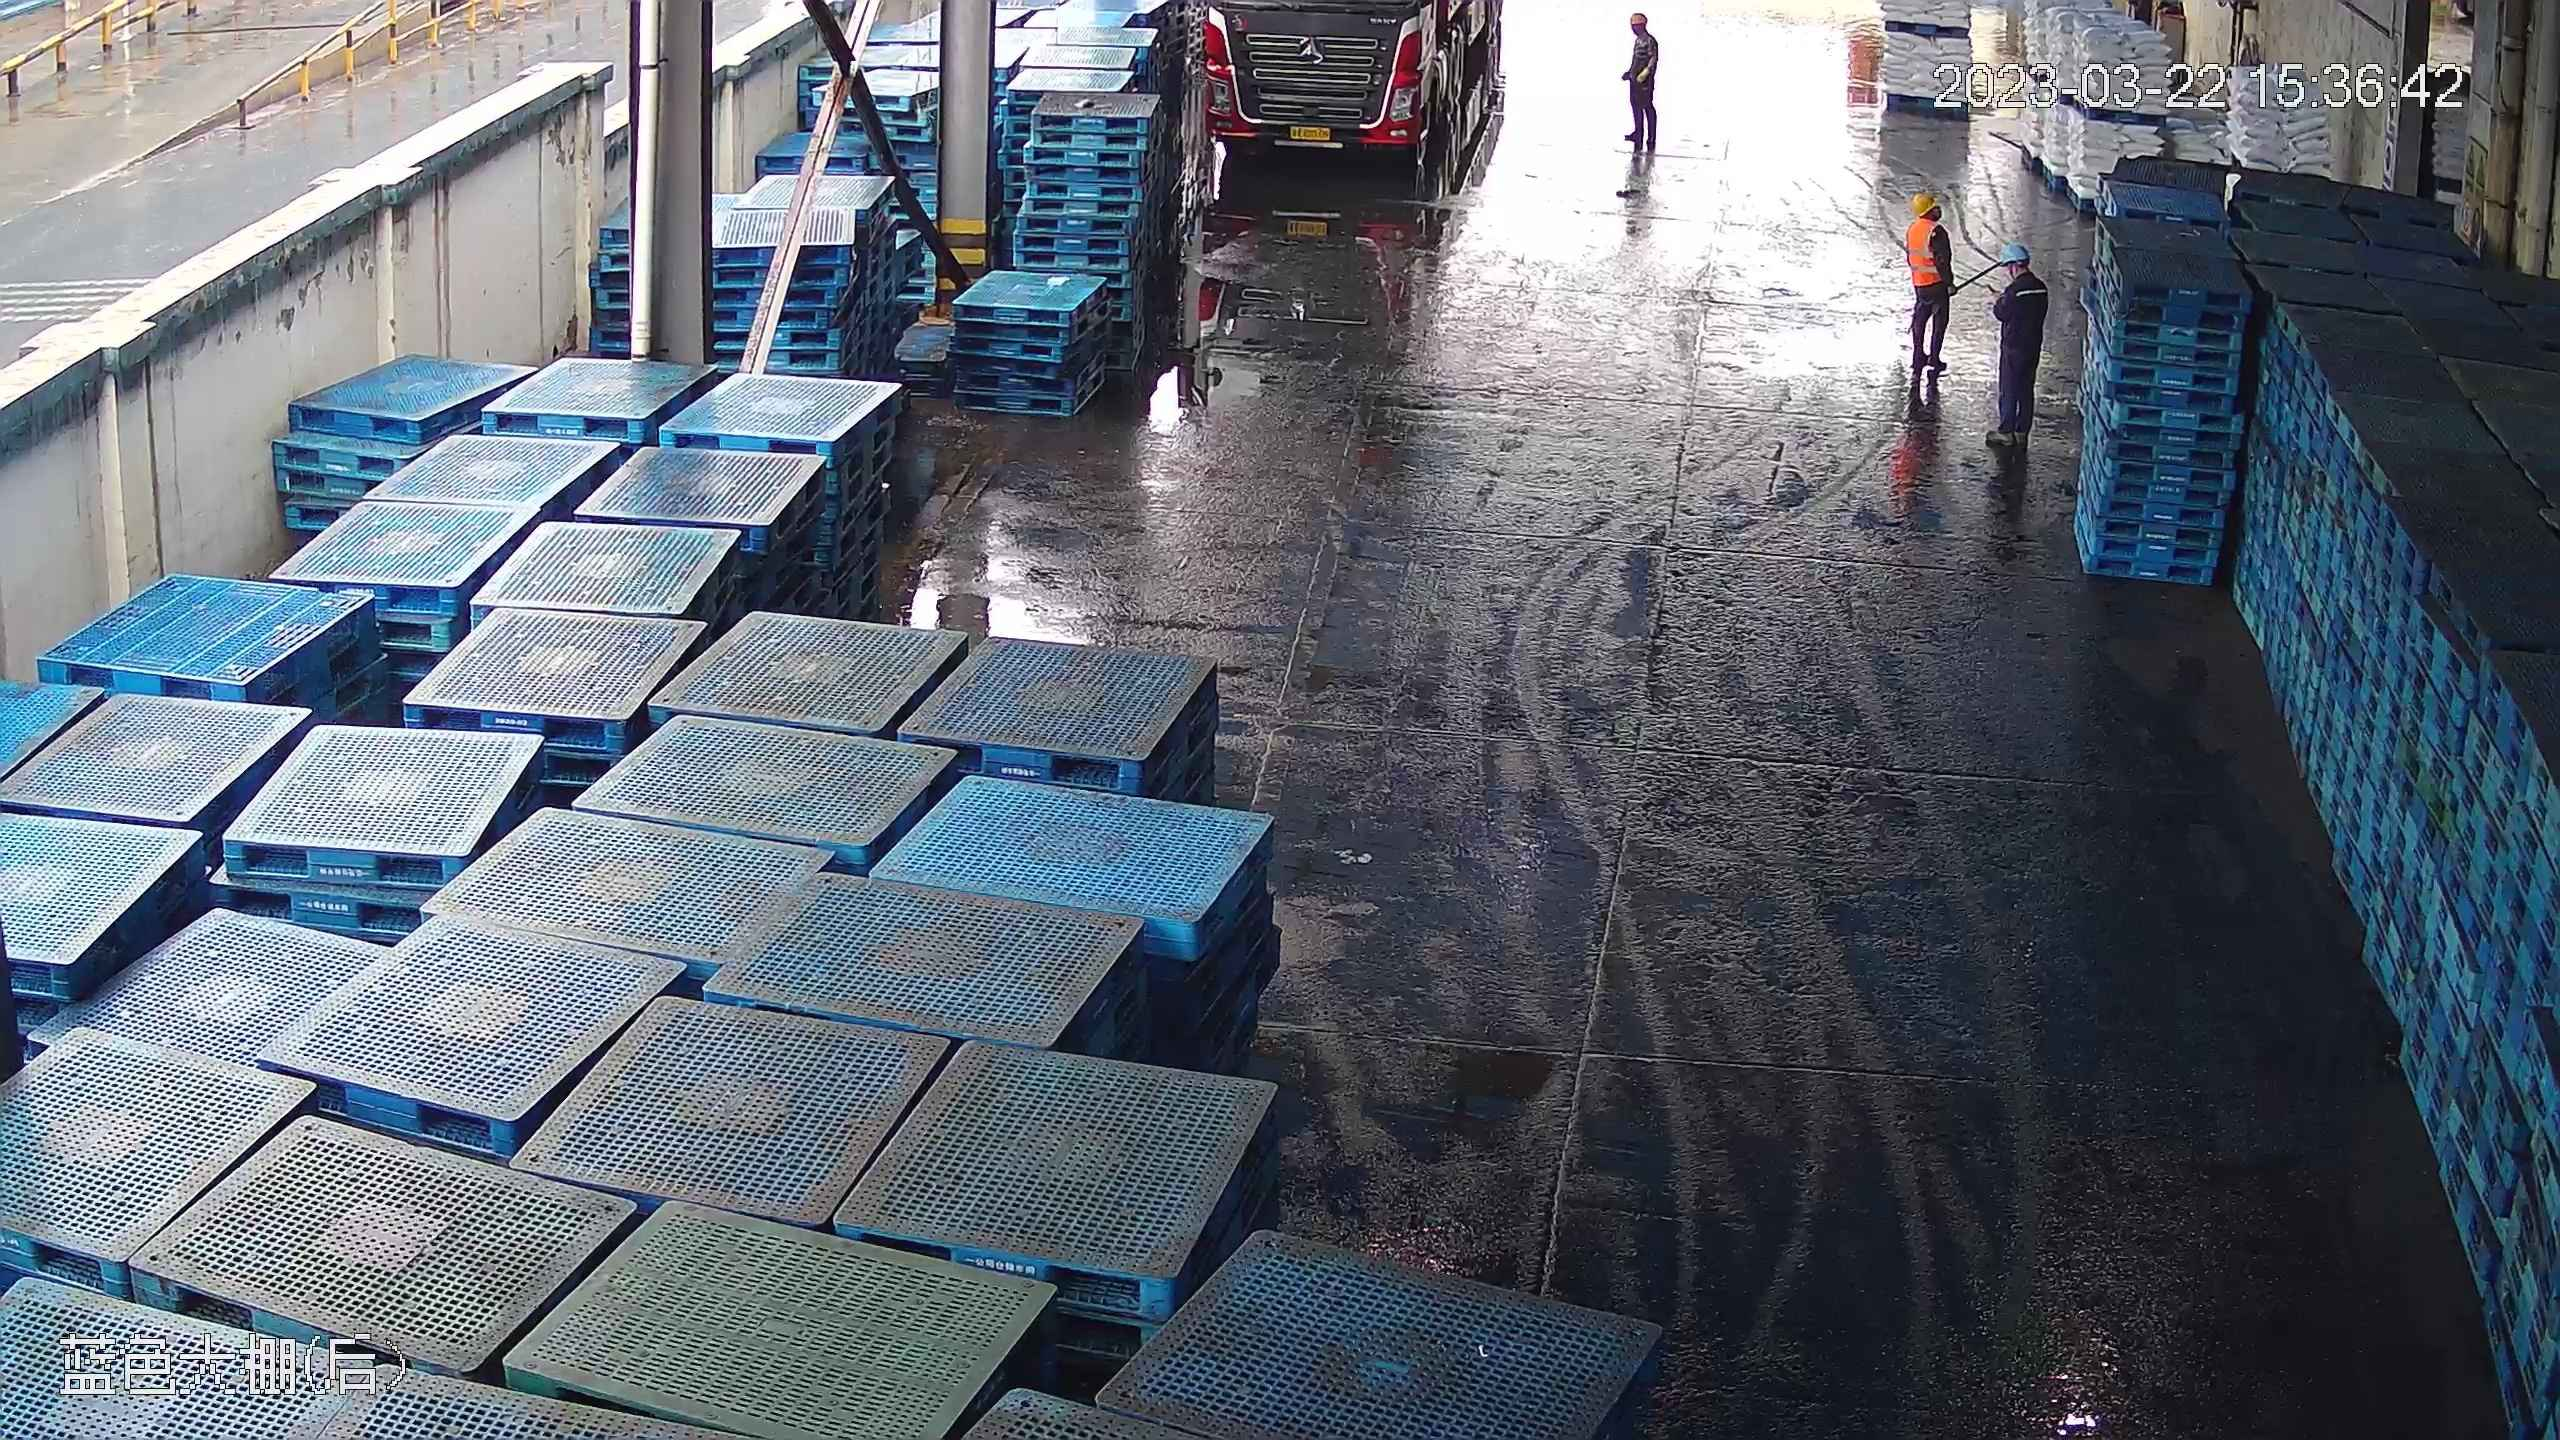head: (1902, 187, 1953, 252), (1991, 243, 2045, 303), (1623, 6, 1661, 65)
helmet: (1909, 187, 1939, 213), (2008, 241, 2035, 264), (1628, 10, 1650, 28)
people: (1985, 242, 2050, 450), (1899, 186, 1956, 406), (1613, 7, 1661, 154)
truck: (1191, 4, 1505, 168)
